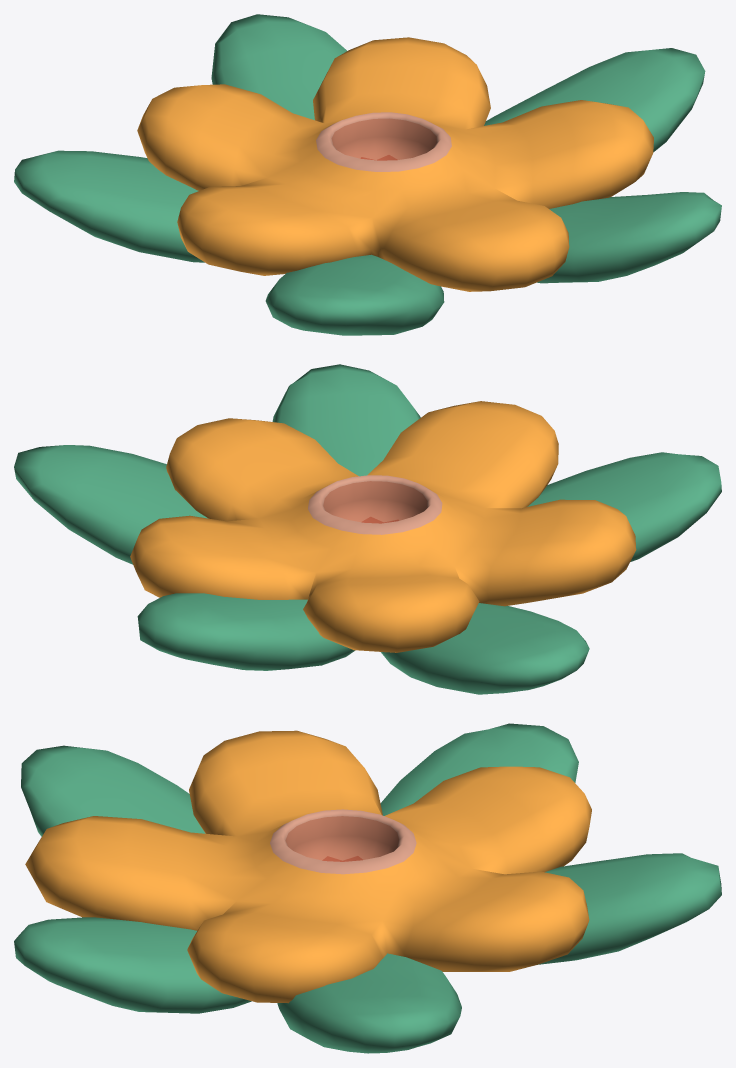
The model's file is Strower_A_01.fbx.
The picture shows the model from 3 angles, top to bottom: view 1: azimuth 30°, elevation 25°; view 2: azimuth 150°, elevation 25°; view 3: azimuth 270°, elevation 25°; orthographic projection. The views are drawn at different scales.
Visible parts, largest first — view 1: Strower_A_01_LOD0; view 2: Strower_A_01_LOD0; view 3: Strower_A_01_LOD0.
Boxes of the visible parts, x1,y1,x2,y2 form: Strower_A_01_LOD0: (14, 14, 721, 335); Strower_A_01_LOD0: (14, 364, 721, 694); Strower_A_01_LOD0: (14, 723, 721, 1053).
Size of what is drawn, in the model's own units: 714 by 126 by 654.
